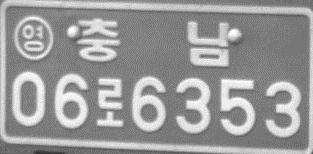0: (9, 70, 46, 127)
3: (264, 80, 301, 138), (175, 77, 211, 135)
5: (219, 78, 256, 137)
6: (52, 73, 89, 130), (130, 75, 166, 133)
로: (96, 77, 125, 127)
영: (13, 14, 53, 61)
충남_D: (77, 16, 232, 67)
